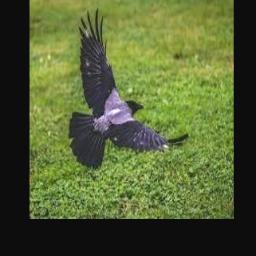Crow: (69, 7, 188, 170)
